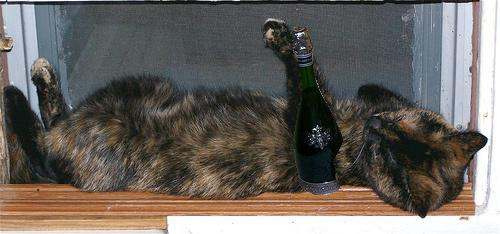tampered: (294, 28, 343, 195)
